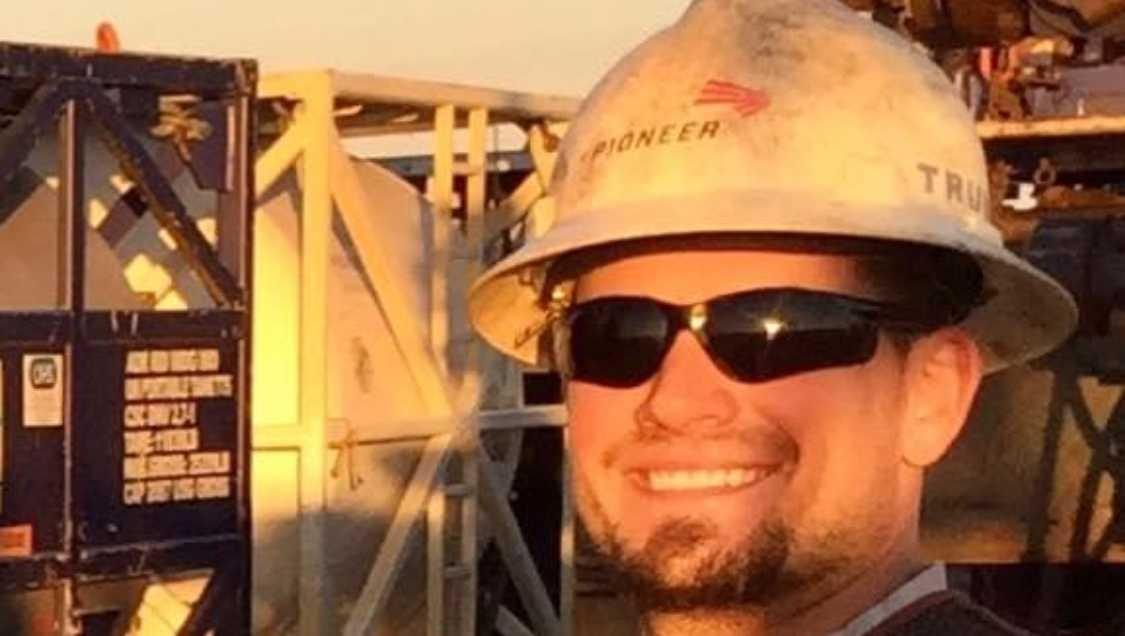helmet: (468, 0, 1079, 363)
